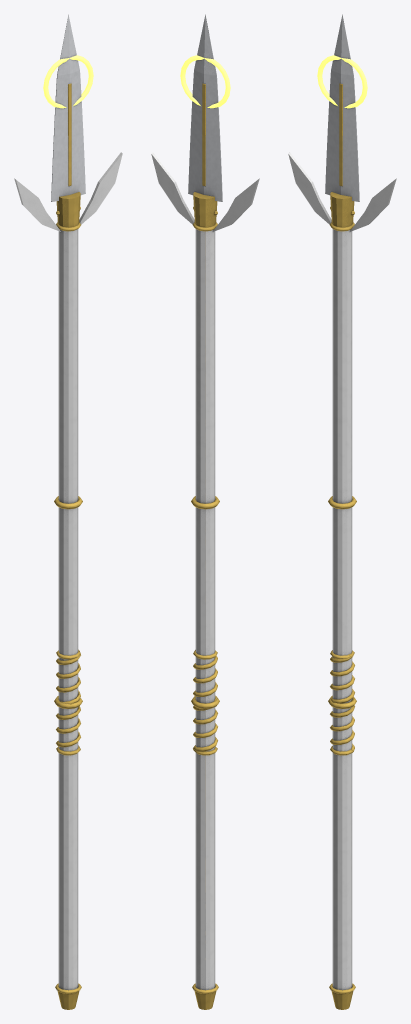
The model's file is 08_heaven_spear.fbx.
3 views of the same model, side by side, from view 1: azimuth 30°, elevation 25°; view 2: azimuth 150°, elevation 25°; view 3: azimuth 330°, elevation 25° (orthographic).
Visible parts, largest first — view 1: Weapon; view 2: Weapon; view 3: Weapon.
Boxes of the visible parts, x1=… form: Weapon: x1=14, y1=14, x2=122, y2=1009; Weapon: x1=151, y1=14, x2=259, y2=1009; Weapon: x1=288, y1=14, x2=396, y2=1009.
Size of the model in its own units: 25.24 by 224 by 5.95.
2 materials, 1 textured.
